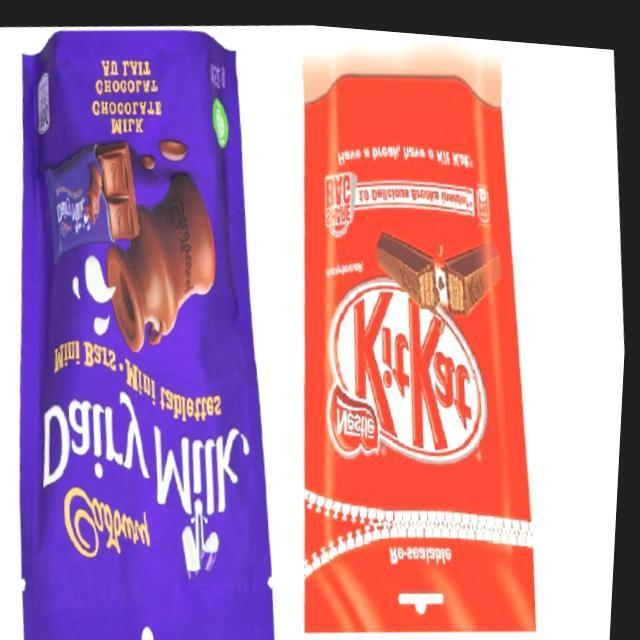cadbury_chocolate: (33, 63, 243, 640)
kitkat_chocolate: (317, 92, 523, 615)
